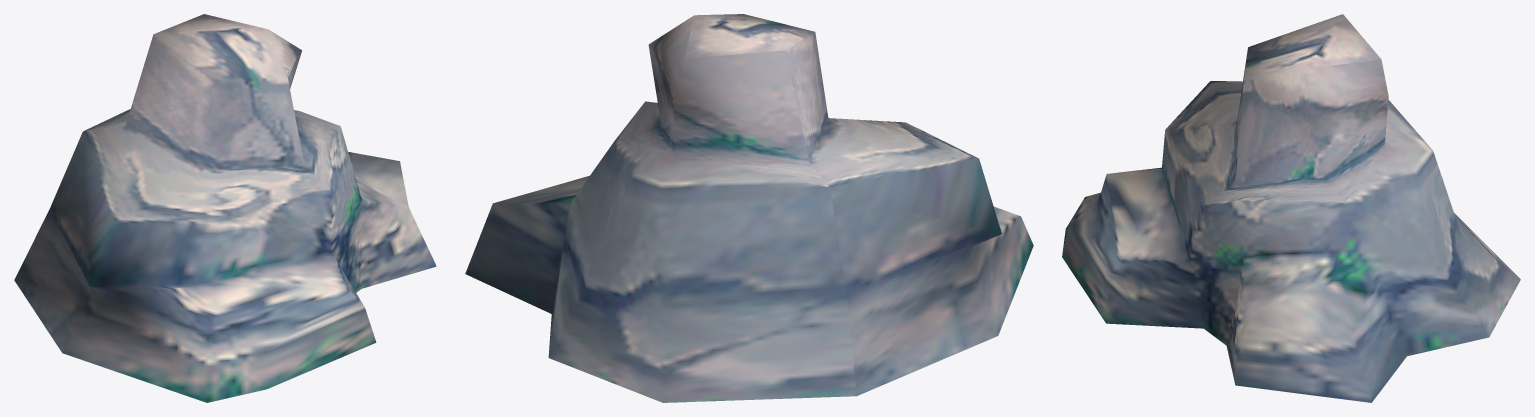
File: loyalismwood_round07.FBX
The picture shows the model from 3 angles, left to right: view 1: azimuth 30°, elevation 25°; view 2: azimuth 150°, elevation 25°; view 3: azimuth 270°, elevation 25°; orthographic projection. The views are drawn at different scales.
Parts seen in each view (by area): view 1: loyalismwood_round07; view 2: loyalismwood_round07; view 3: loyalismwood_round07.
Part boxes in pixels (bbox=[...]): loyalismwood_round07: bbox=[14, 14, 436, 402]; loyalismwood_round07: bbox=[465, 14, 1033, 402]; loyalismwood_round07: bbox=[1062, 14, 1520, 402].
Size of the model in its own units: 213 by 204 by 126.
1 material, 1 textured.
